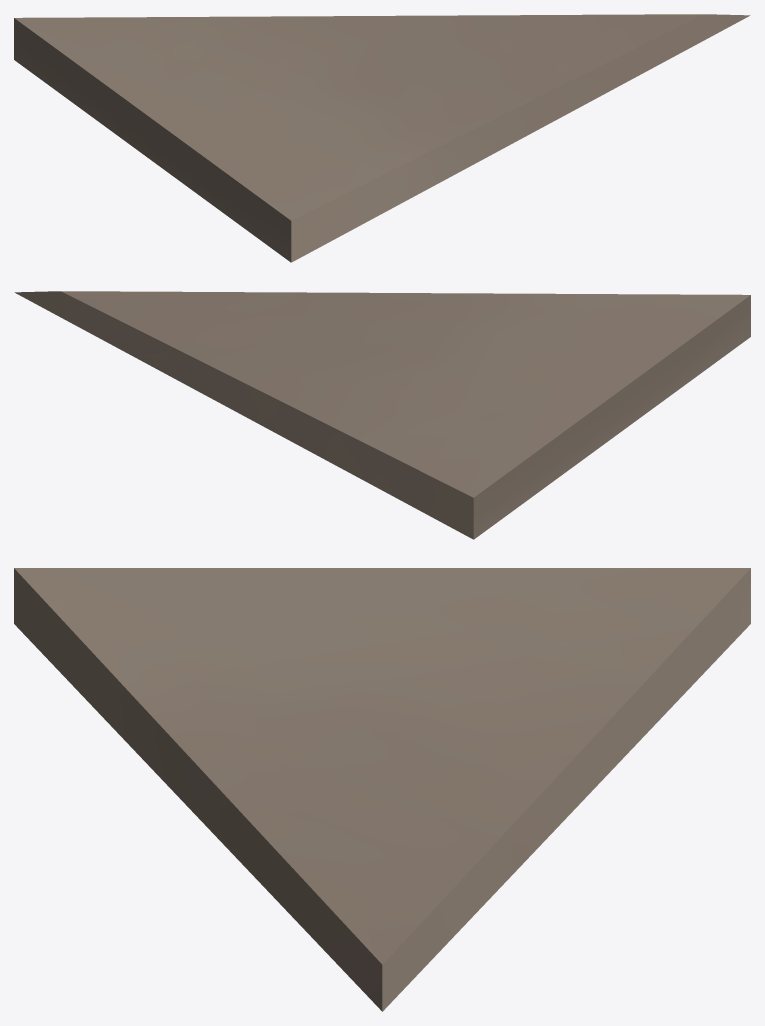
File: bowl Shard 3.fbx
3 renders of one model, top to bottom at view 1: azimuth 30°, elevation 25°; view 2: azimuth 150°, elevation 25°; view 3: azimuth 270°, elevation 25°, orthographic. The views are drawn at different scales.
Parts seen in each view (by area): view 1: pCube3; view 2: pCube3; view 3: pCube3.
Part boxes in pixels (<box>): pCube3: <box>14,14,750,262</box>; pCube3: <box>14,291,750,539</box>; pCube3: <box>14,568,750,1011</box>.
Size of the model in its own units: 1.55 by 0.1042 by 1.25.
1 material, 1 textured.
